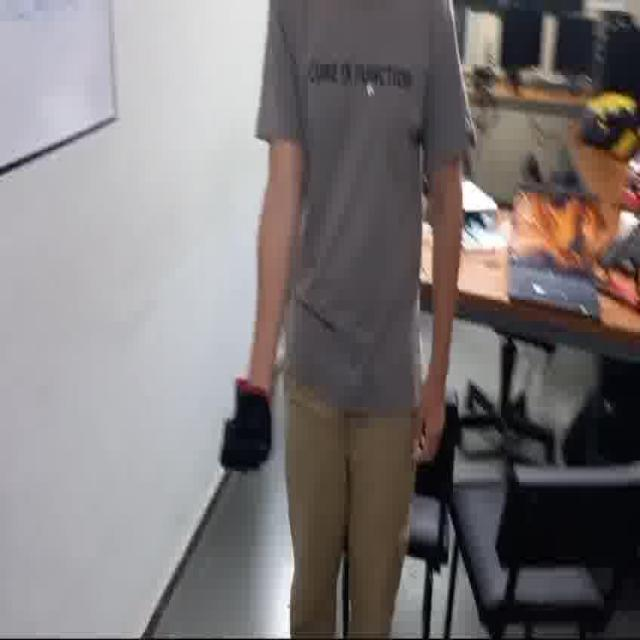Gloves: (221, 379, 272, 475)
